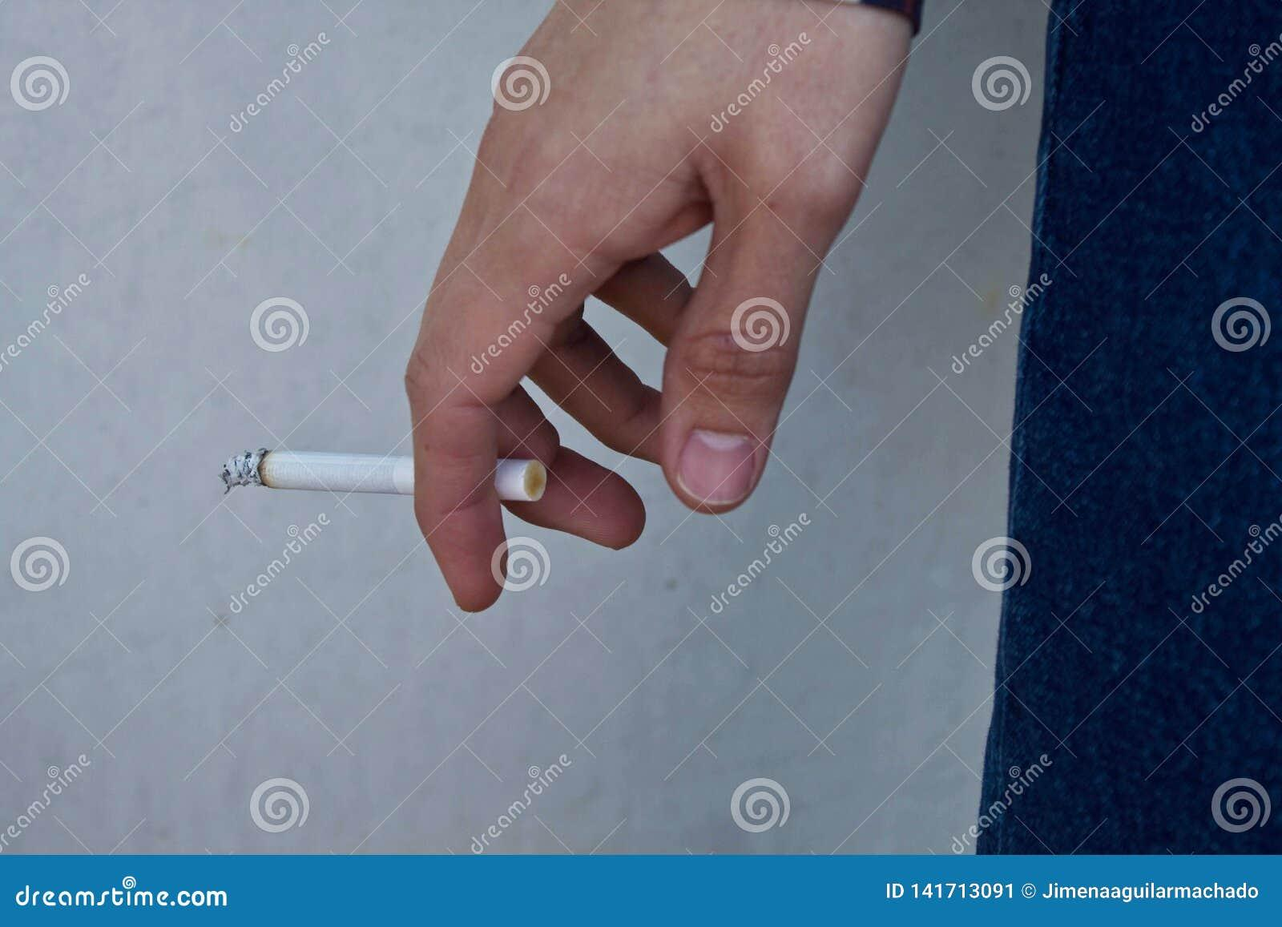cigarette: (221, 449, 413, 494)
